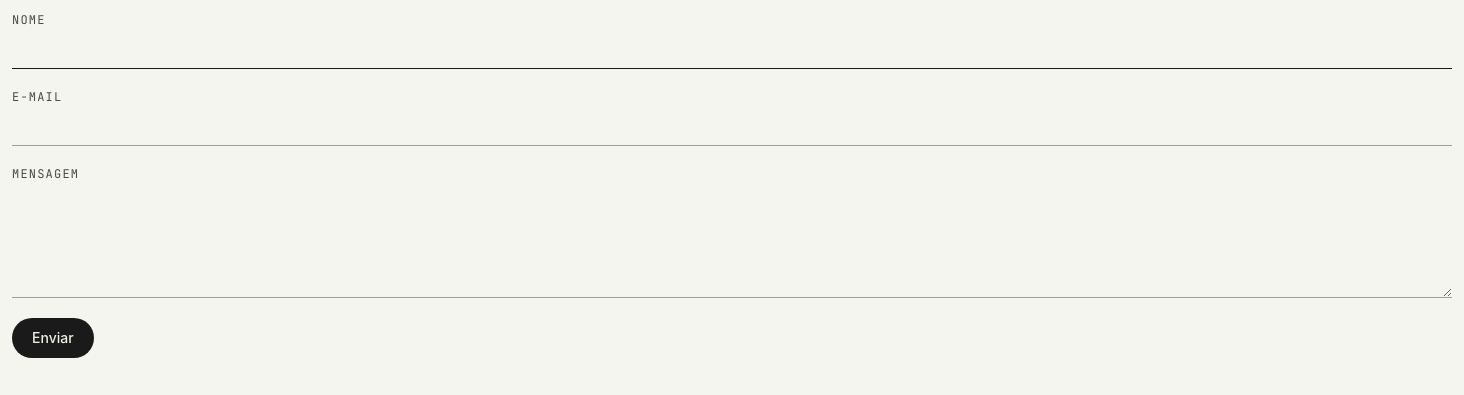
ContactForm › mostra "e-mail inválido" para um e-mail mal formado
The width and height of the screenshot is (1464, 395).
Type "Ana" into the field labelled "Nome".
click(732, 50); type("Ana")  # box top-left (12, 32), bottom-right (1452, 69)
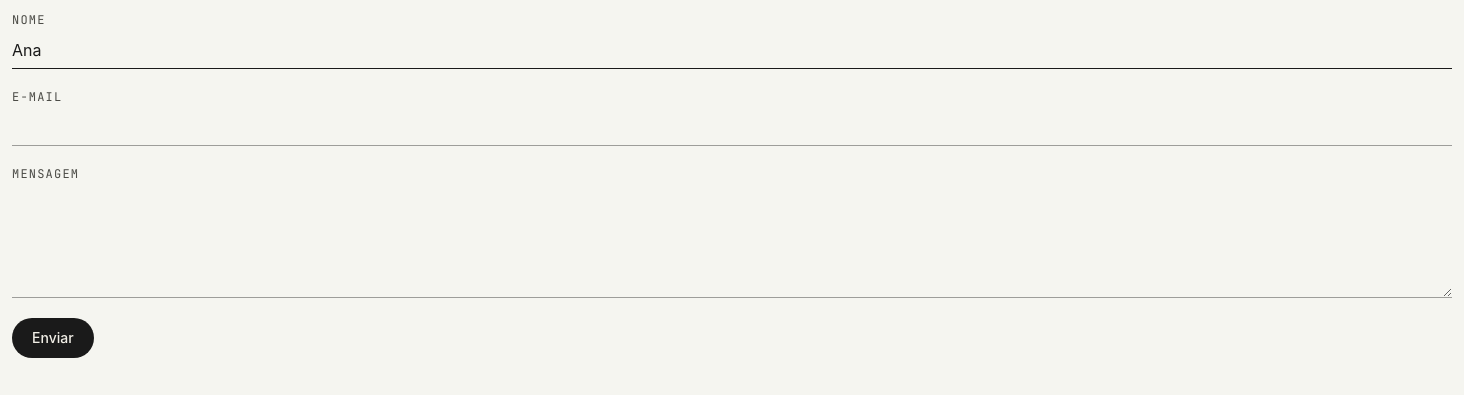
Type "ana@exemplo.com" into the field labelled "E-mail".
click(732, 128); type("ana@exemplo.com")  # box top-left (12, 109), bottom-right (1452, 146)
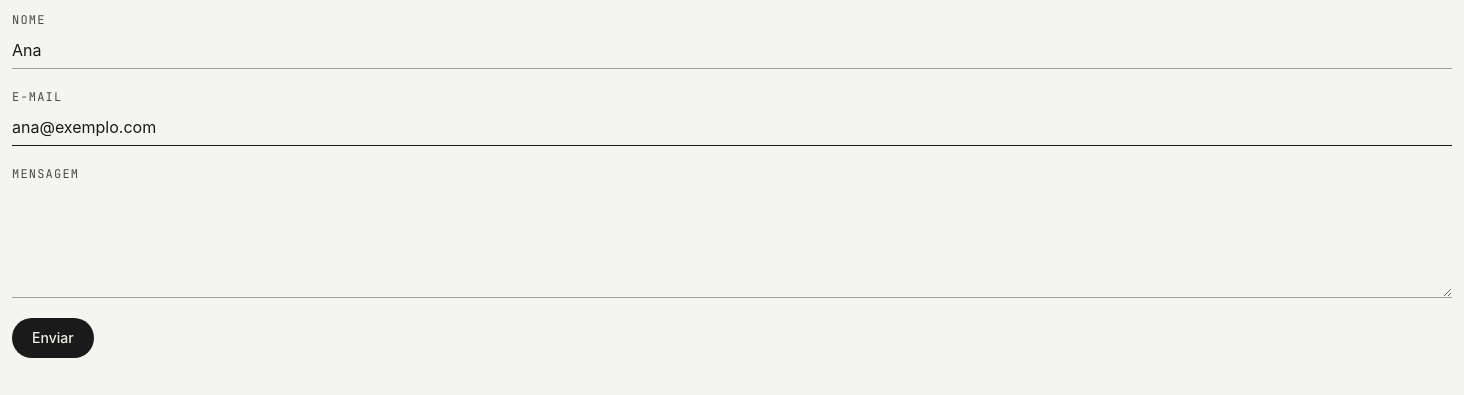
Type "Quero conversar sobre um projeto novo." into the text box labelled "Mensagem".
click(732, 242); type("Quero conversar sobre um projeto novo.")  # box top-left (12, 186), bottom-right (1452, 298)
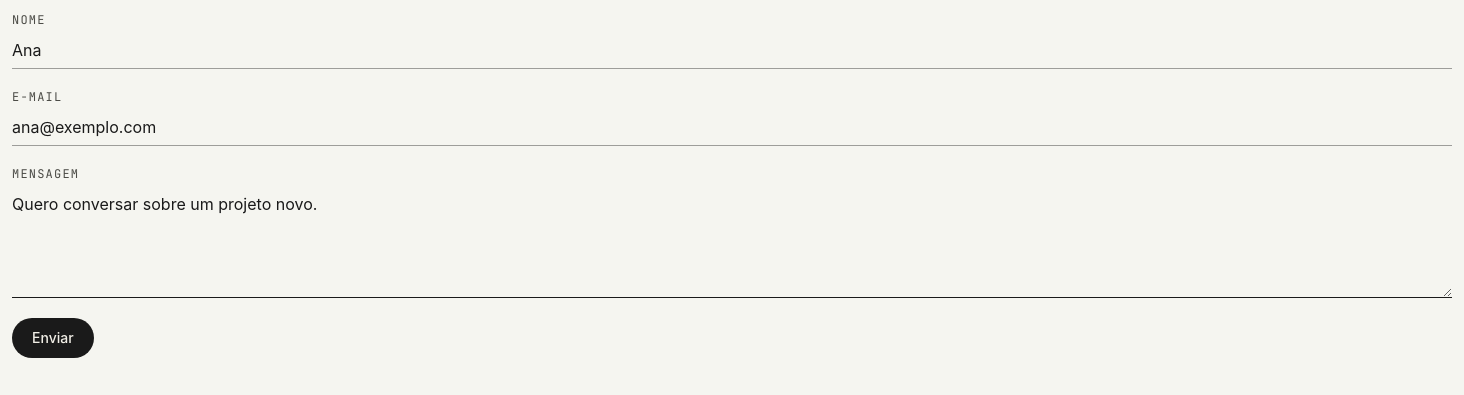
Replace the text in the field labelled "E-mail" with "ana@" at (732, 128), box top-left (12, 109), bottom-right (1452, 146)
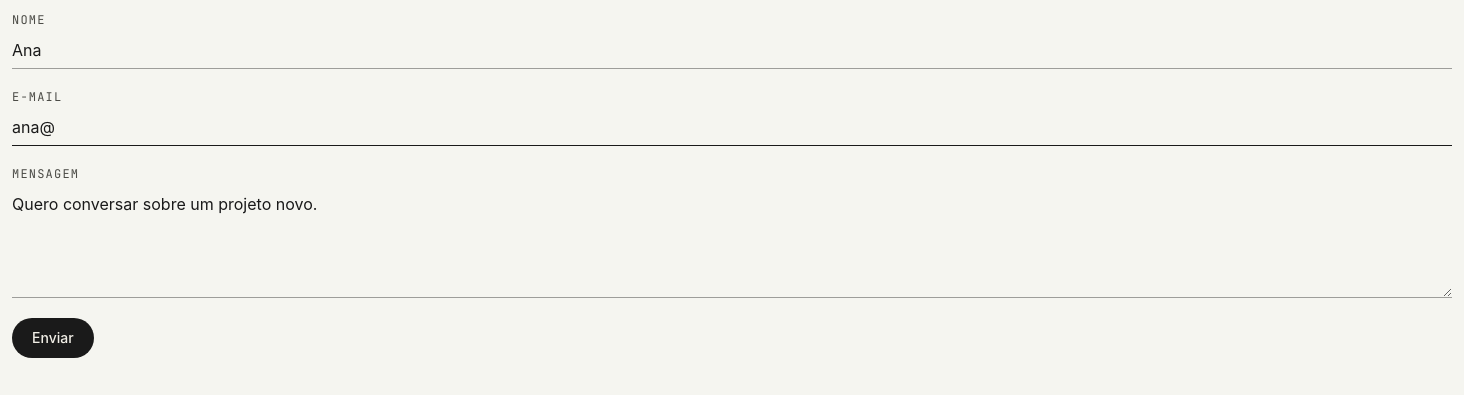
Click the button "Enviar".
click(53, 338)  # box top-left (12, 318), bottom-right (94, 358)
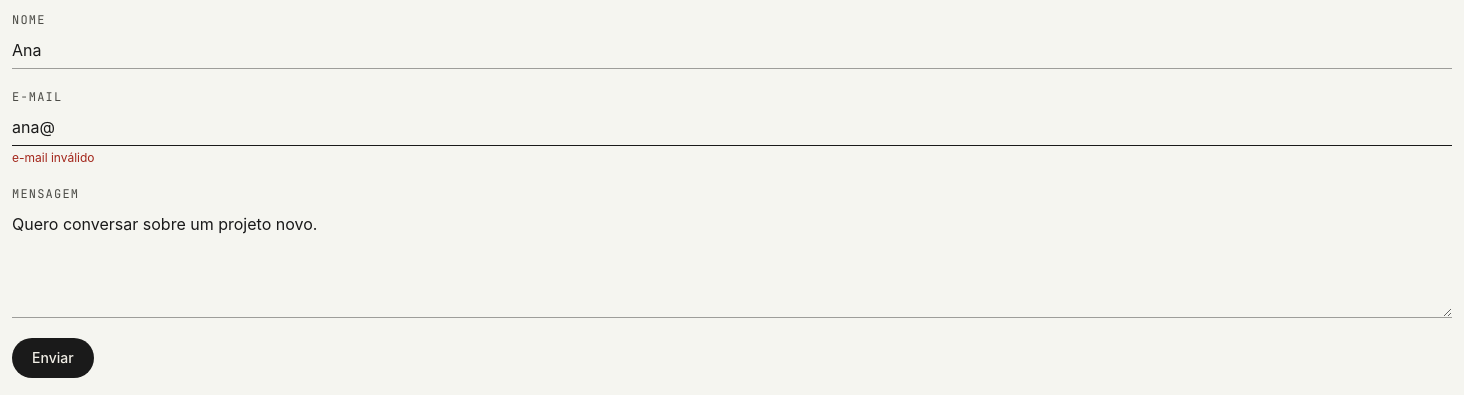
Expected: the text "e-mail inválido" is shown, top-left (12, 150), bottom-right (95, 165)
